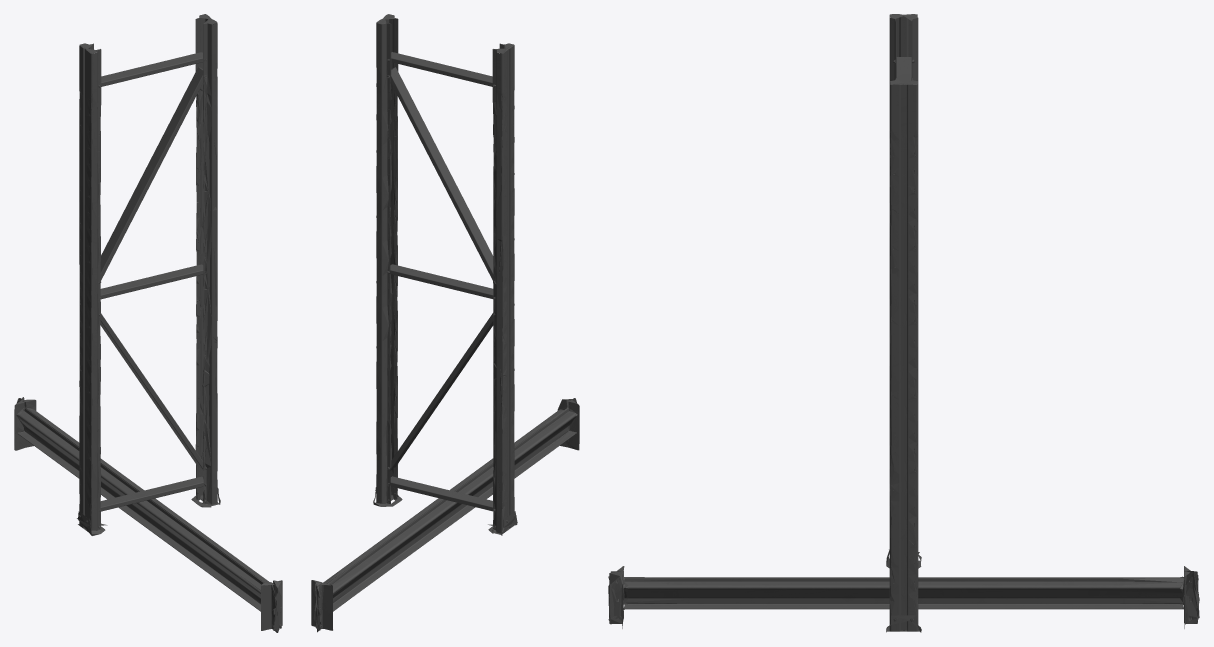
Rendered from storage_tire_rack_d01.glb.
3 views of the same model, side by side, from view 1: azimuth 30°, elevation 25°; view 2: azimuth 150°, elevation 25°; view 3: azimuth 270°, elevation 25° (orthographic). The views are drawn at different scales.
Parts seen in each view (by area): view 1: geometry_0; view 2: geometry_0; view 3: geometry_0.
Part boxes in pixels (box(x1,y1,x2,y2)): geometry_0: box(14, 14, 282, 632); geometry_0: box(311, 14, 579, 632); geometry_0: box(608, 14, 1199, 632).
Size of the model in its own units: 0.1147 by 0.42 by 0.3918.
1 material, 1 textured.
